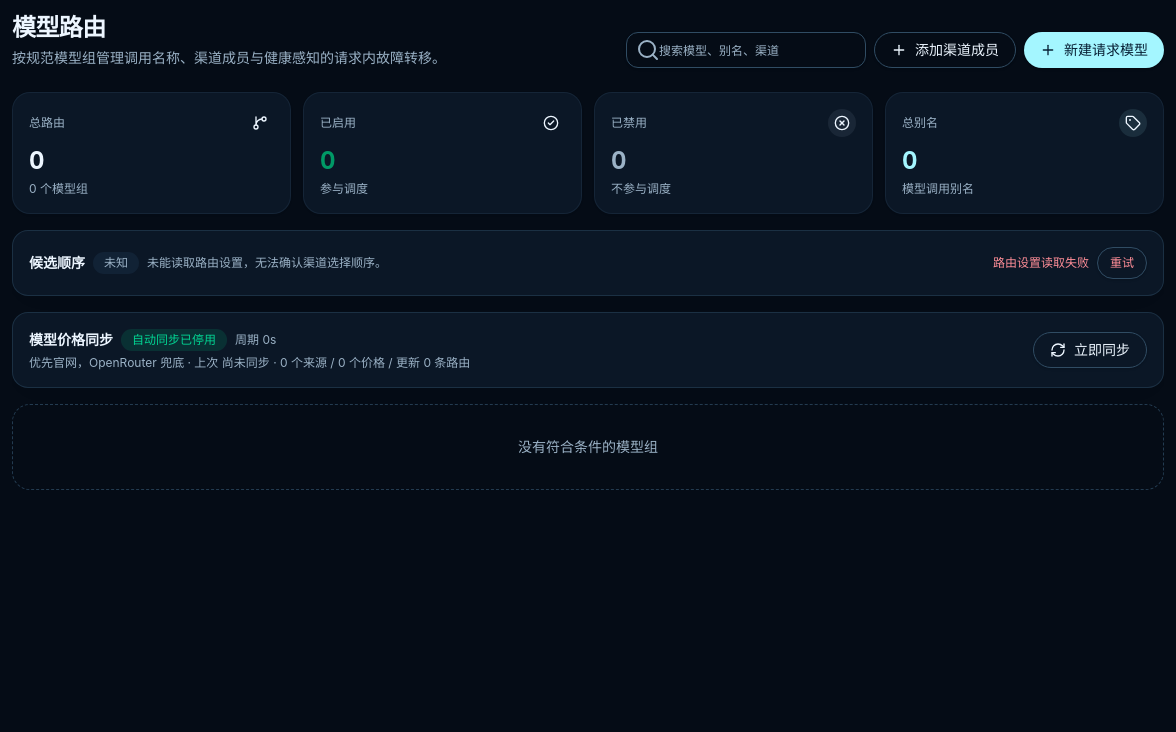
Test: Routes passthrough routing status › states the ordering is unknown on query error, offers retry, and recovers
Check: the text "路由设置读取失败" is shown, box left=993, top=255, right=1089, bottom=271
Check: the text "优先级固定（按渠道优先级从高到低）" is not shown
Step 1. Click the button "重试" → (1122, 263), box left=1097, top=247, right=1147, bottom=279
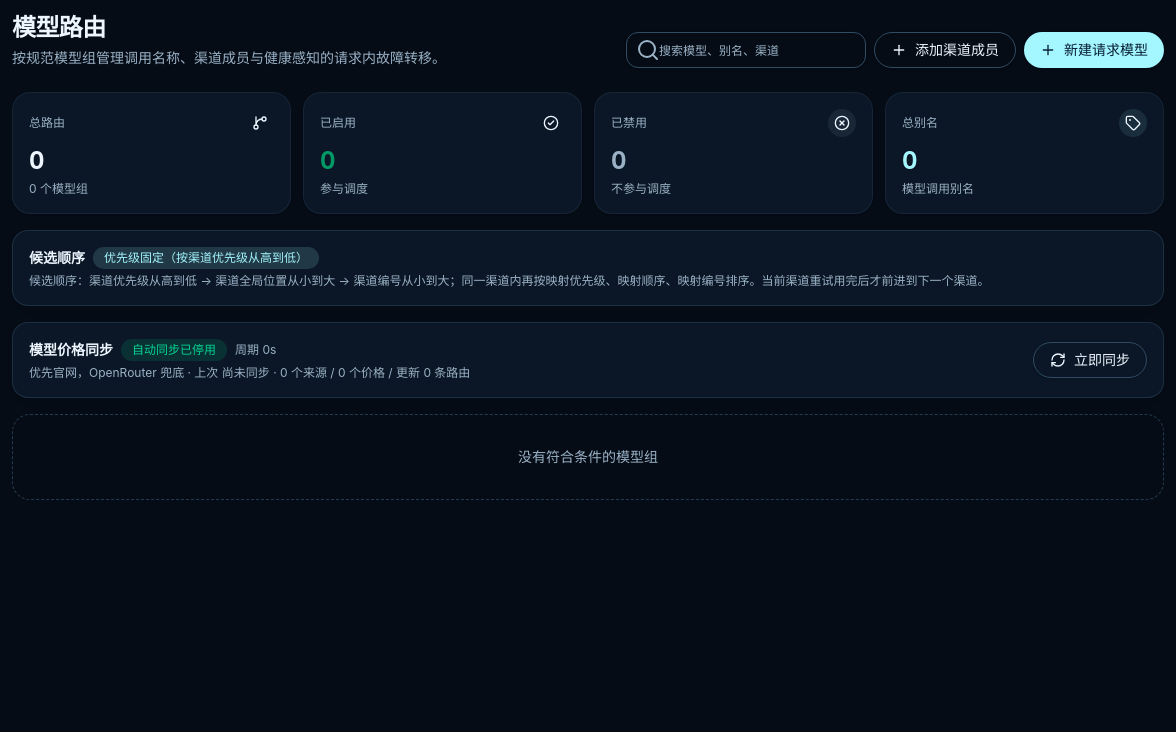
Check: the text "优先级固定（按渠道优先级从高到低）" is shown, box left=93, top=247, right=319, bottom=269
Check: the text "路由设置读取失败" is gone
